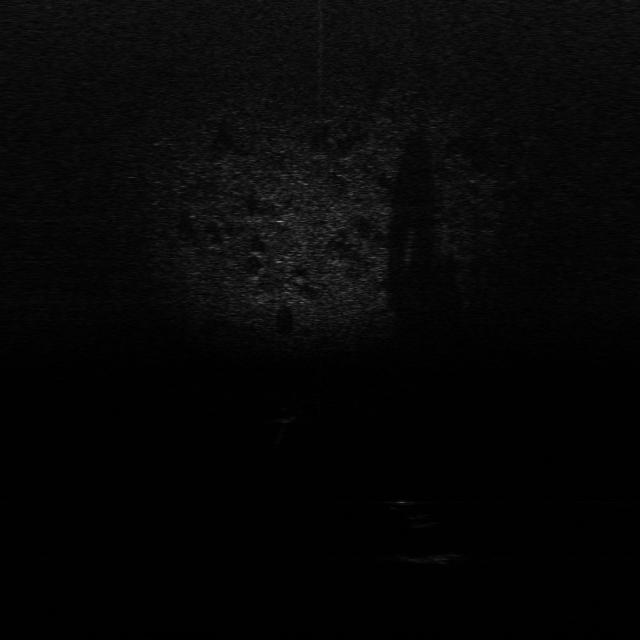ball: (273, 404, 301, 424)
metal bucket: (390, 552, 466, 568)
tyre: (383, 497, 439, 530)
